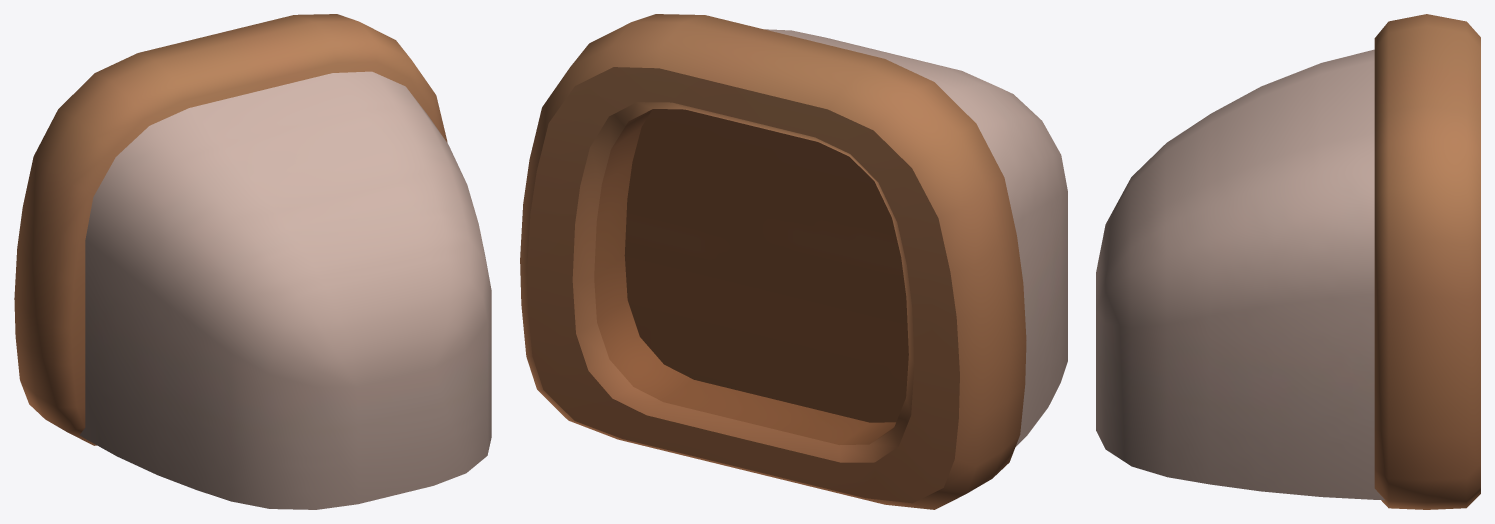
The model's file is Spawner_v2.fbx.
The picture shows the model from 3 angles, left to right: view 1: azimuth 30°, elevation 25°; view 2: azimuth 150°, elevation 25°; view 3: azimuth 270°, elevation 25°; orthographic projection. The views are drawn at different scales.
Parts seen in each view (by area): view 1: Spawner_v2; view 2: Spawner_v2; view 3: Spawner_v2.
Part boxes in pixels (x1,y1,x2,y2): Spawner_v2: [14, 14, 491, 509]; Spawner_v2: [520, 14, 1067, 509]; Spawner_v2: [1096, 14, 1480, 509].
Size of the model in its own units: 105 by 87.67 by 83.01.
